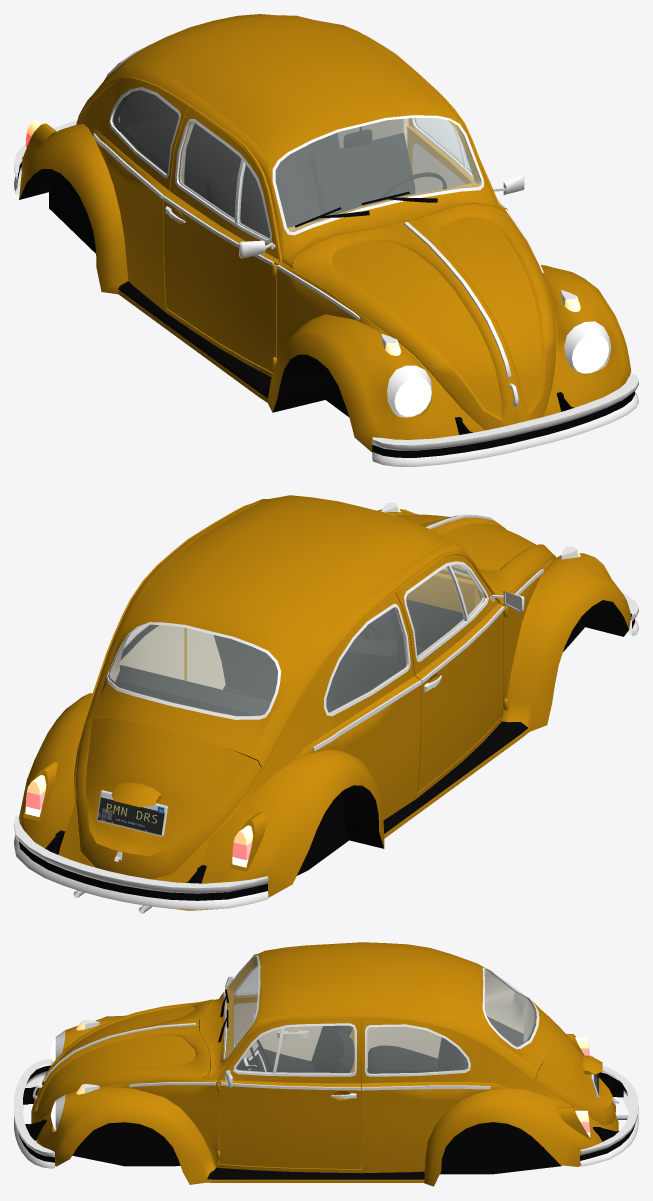
File: Beetle.glb
The picture shows the model from 3 angles, top to bottom: view 1: azimuth 30°, elevation 25°; view 2: azimuth 150°, elevation 25°; view 3: azimuth 270°, elevation 25°; orthographic projection. The views are drawn at different scales.
Parts seen in each view (by area): view 1: chassis; view 2: chassis; view 3: chassis.
Boxes of the visible parts, bbox=[...] form: chassis: bbox=[14, 14, 638, 466]; chassis: bbox=[14, 495, 638, 913]; chassis: bbox=[14, 942, 638, 1186].
Size of the model in its own units: 1.57 by 1.26 by 4.08.
Materials: 16 (1 with a texture image).
